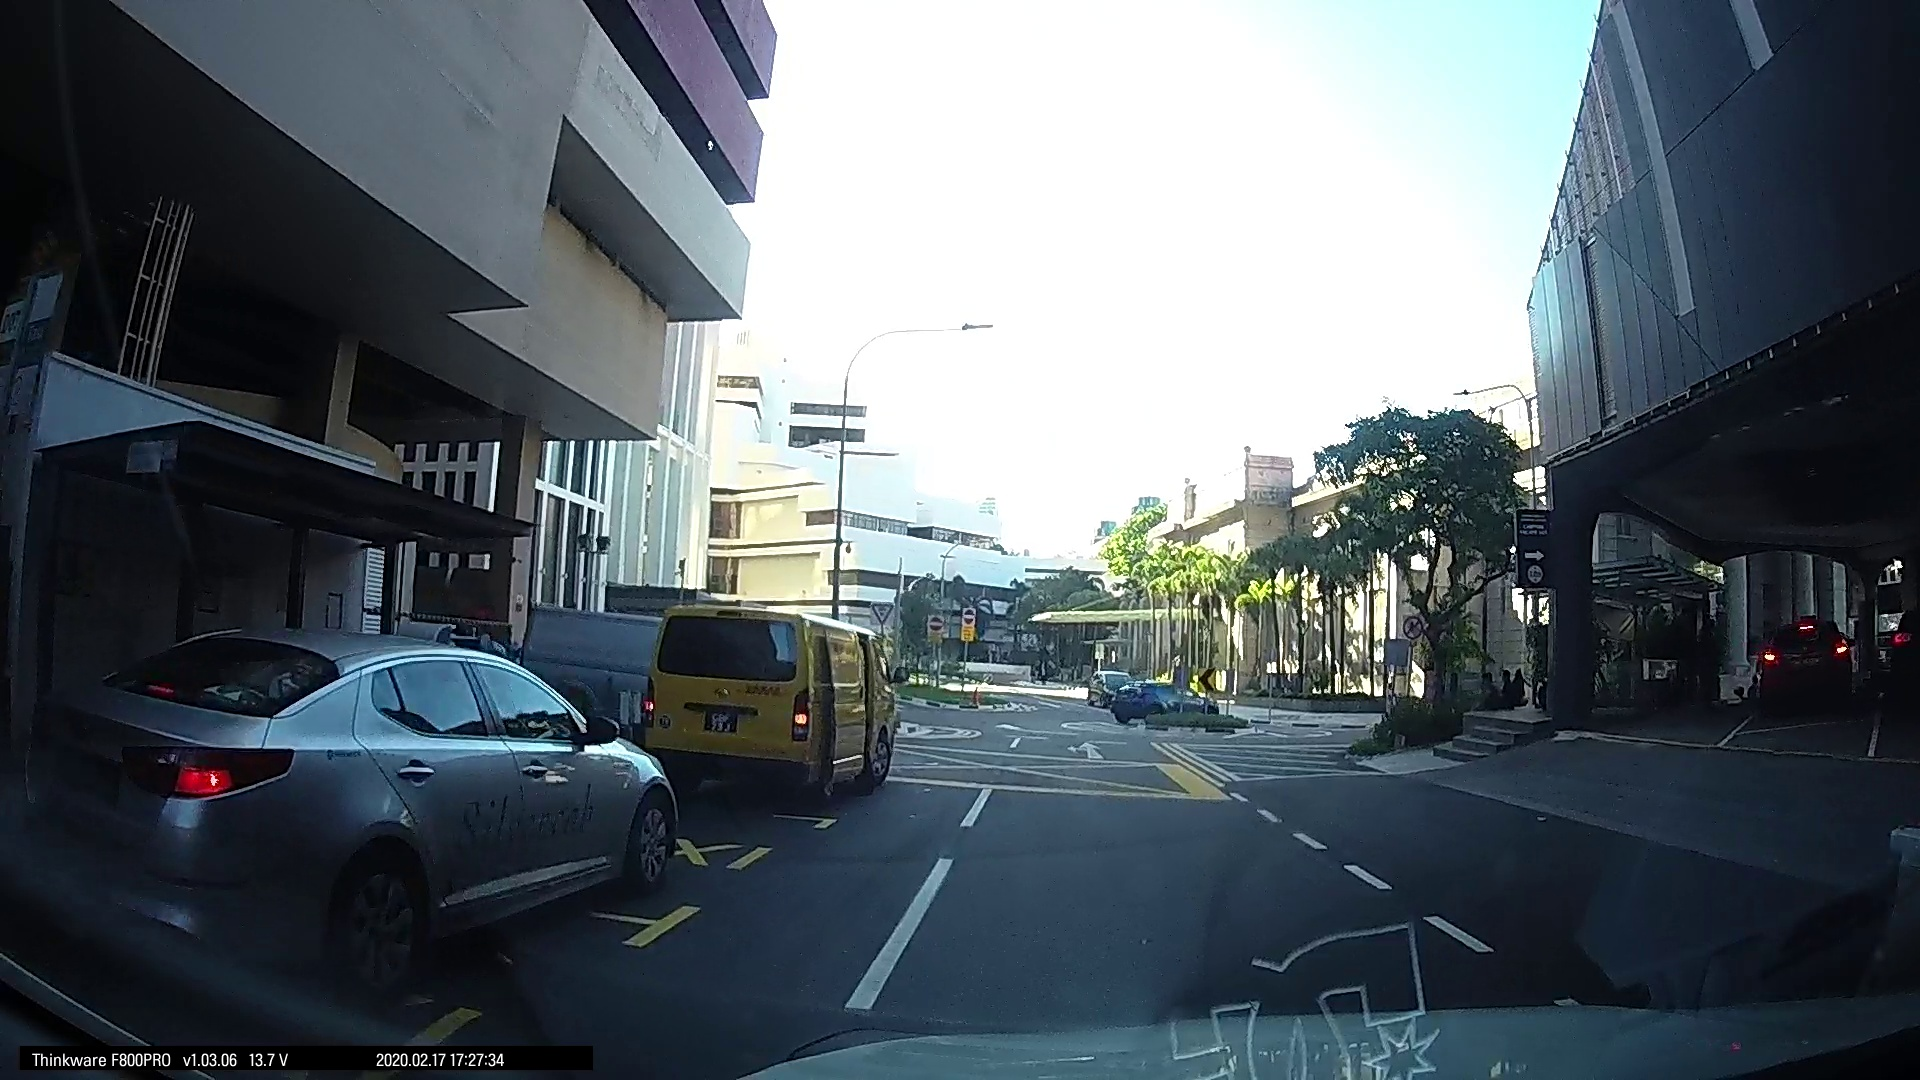Light Vehicle: (36, 622, 688, 984), (634, 597, 891, 804), (1745, 603, 1862, 709), (1110, 671, 1220, 724)
